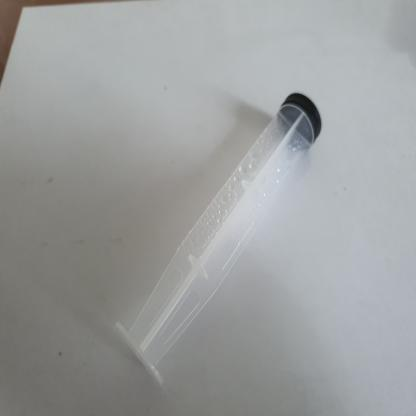wet: (128, 90, 316, 382)
